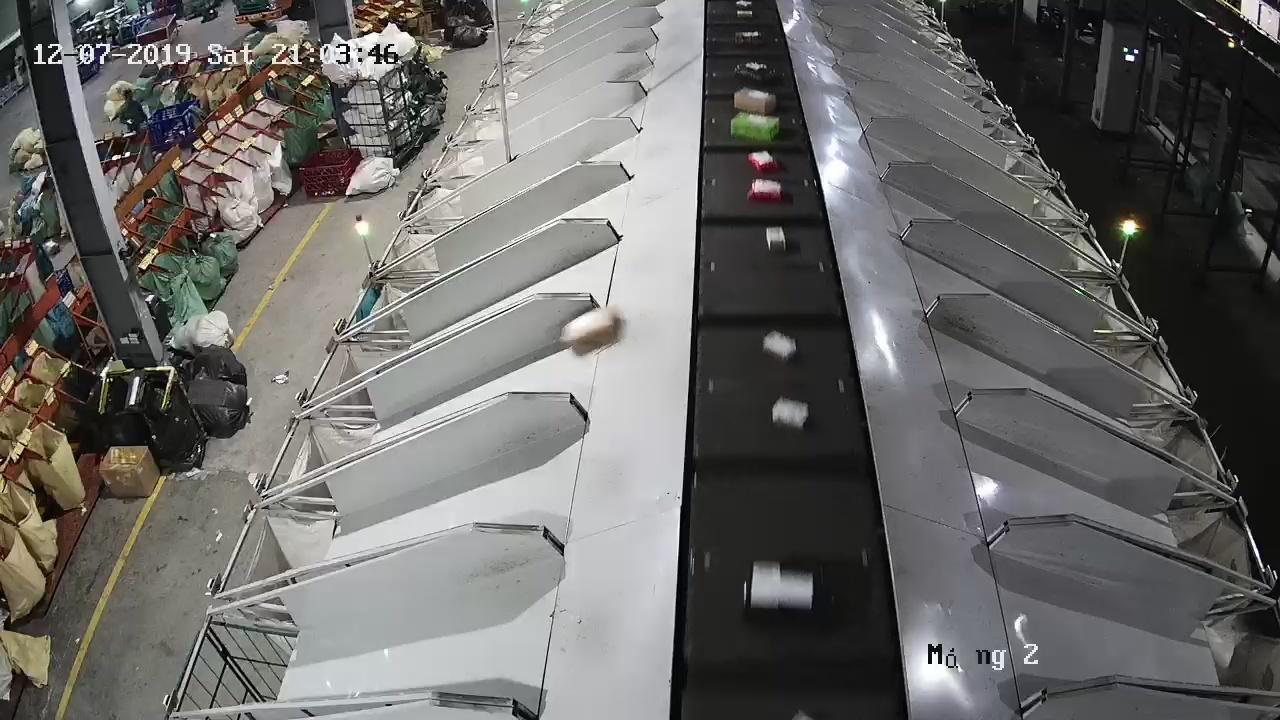parcel: (558, 304, 619, 356)
